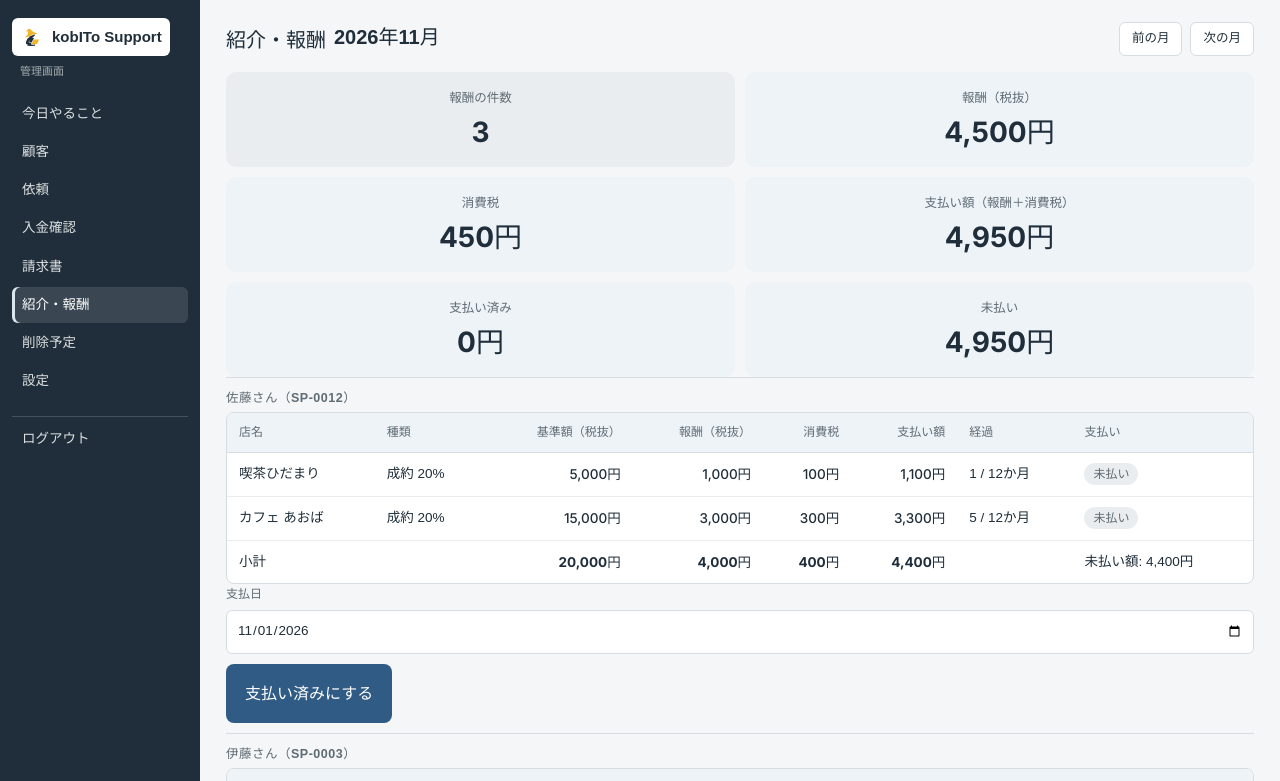
Test: a08 referrals and rewards › confirms exact payment amount, prevents a double submit, and reloads the report
Expected: the table named "佐藤さん" is shown, [227, 413, 1253, 584]
Click the button "支払い済みにする" at {"x": 309, "y": 694}, box [226, 664, 392, 723]
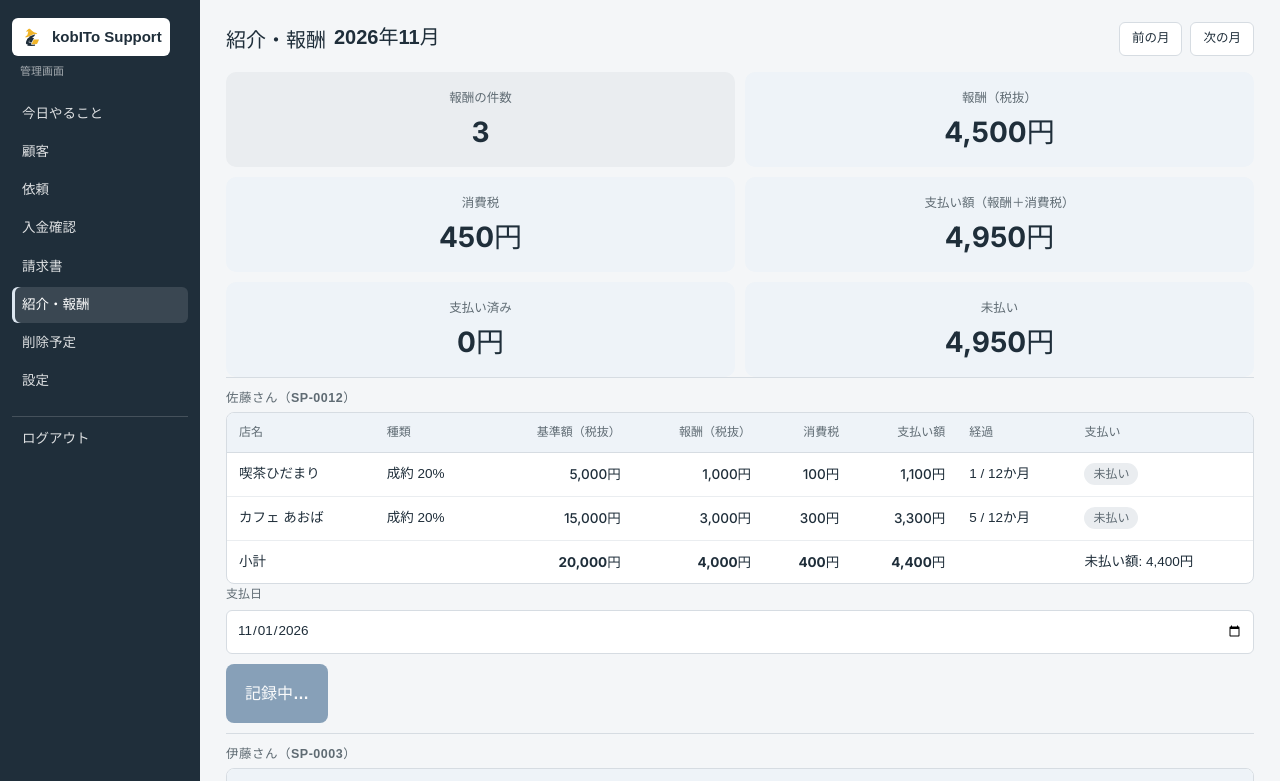
Expected: the button named "支払い済みにする" is disabled
Click the button named "支払い済みにする" at {"x": 277, "y": 694}, box [226, 664, 328, 723]
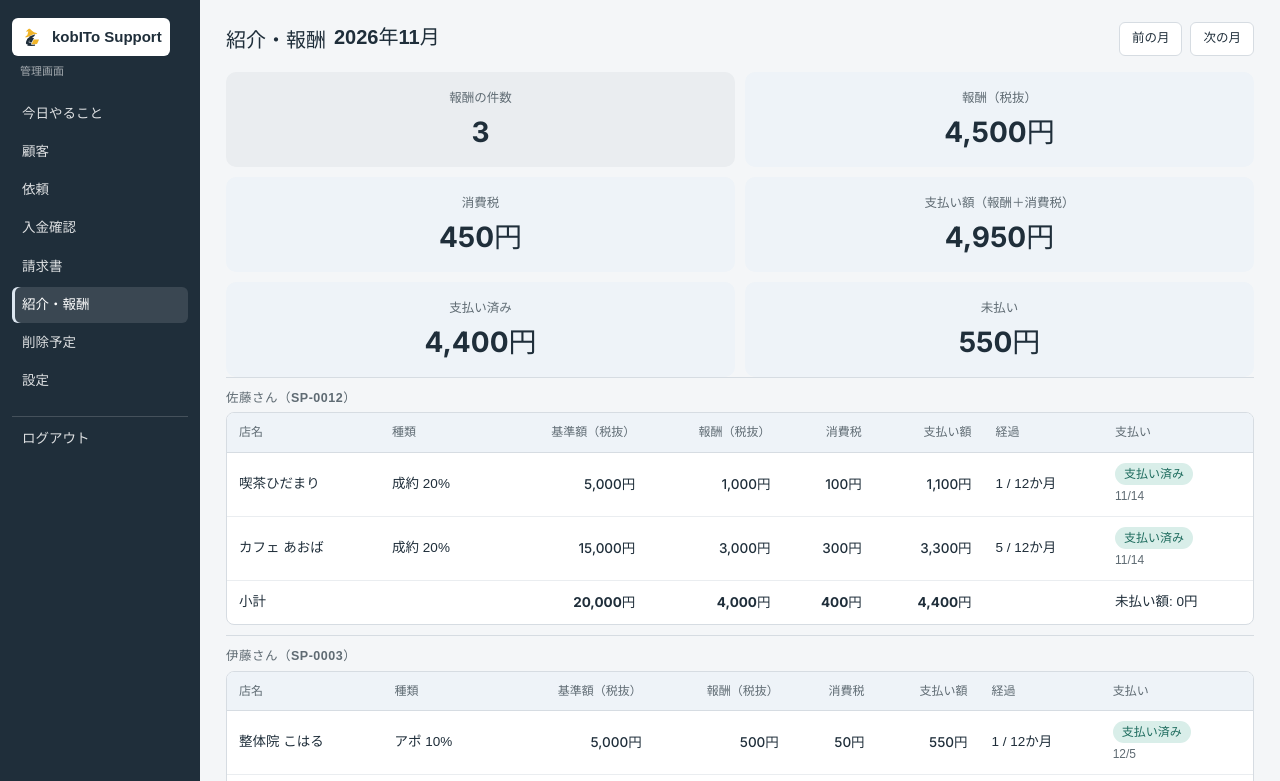
Expected: the button "支払い済みにする" is not shown
Expected: the element named "月の合計" shows "550円", [959, 325, 1040, 359]
Expected: the text "11/14" is shown 2 times, [1115, 489, 1144, 503]; [1115, 553, 1144, 567]
